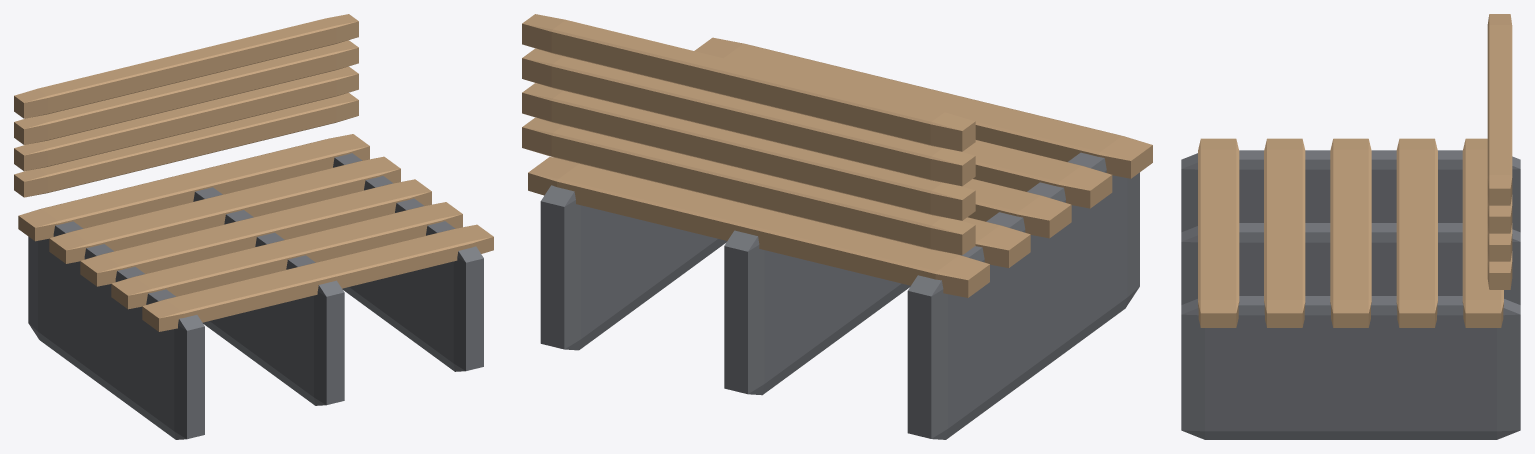
File: b01_wave_public_lounge_bench.glb
3 renders of one model, left to right at view 1: azimuth 30°, elevation 25°; view 2: azimuth 150°, elevation 25°; view 3: azimuth 270°, elevation 25°, orthographic. The views are drawn at different scales.
Visible parts, largest first — view 1: b01_wave_public_lounge_bench; view 2: b01_wave_public_lounge_bench; view 3: b01_wave_public_lounge_bench.
Part boxes in pixels (x1,y1,x2,y2): b01_wave_public_lounge_bench: [14, 14, 493, 439]; b01_wave_public_lounge_bench: [522, 14, 1152, 439]; b01_wave_public_lounge_bench: [1181, 14, 1520, 439].
Size of the model in its own units: 1.5 by 1.05 by 1.23.
